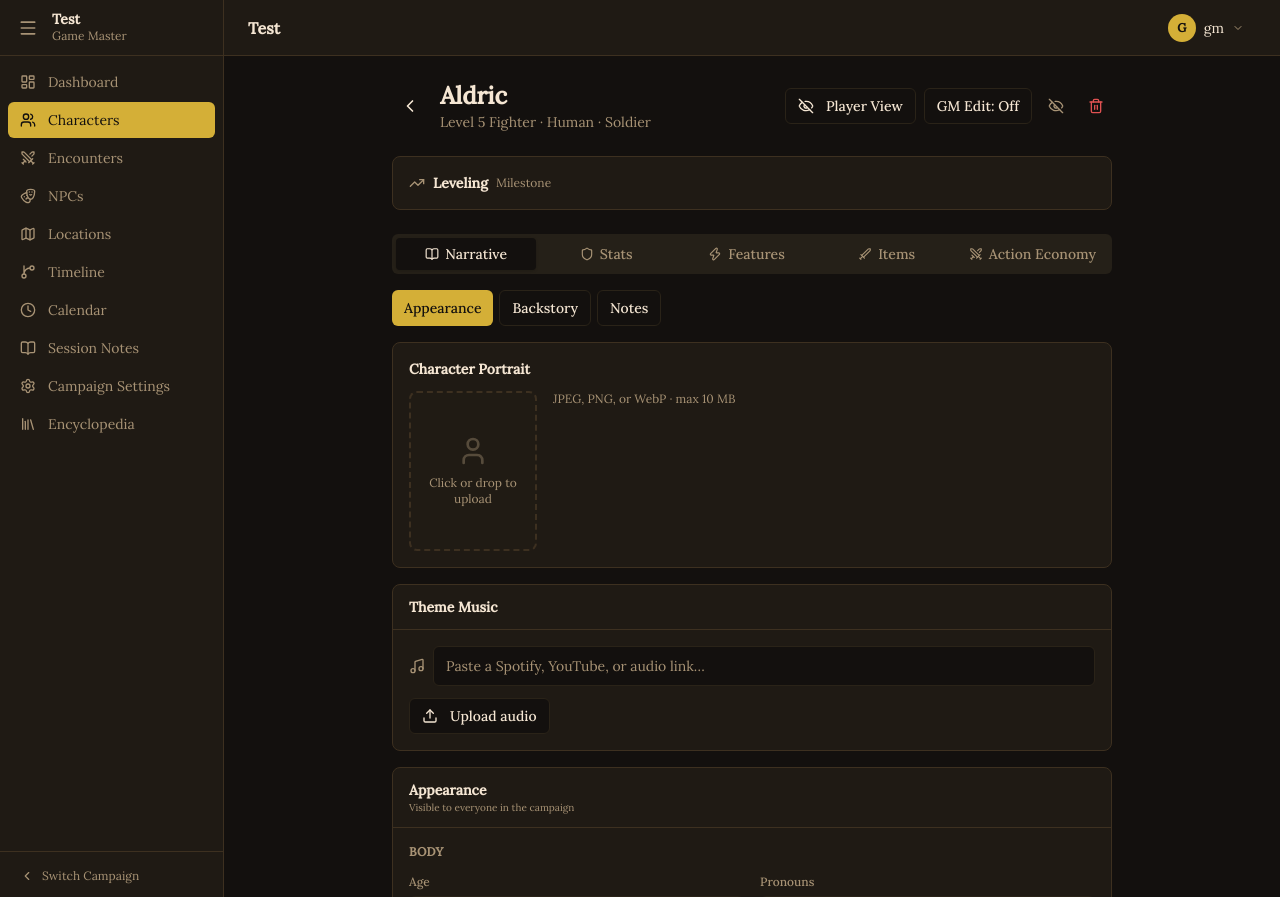
it: CharacterDetail › GM view › GM sees GM Notes section
Click the button with test id "narrative-subtab-notes": [629, 308] box [597,290,661,326]
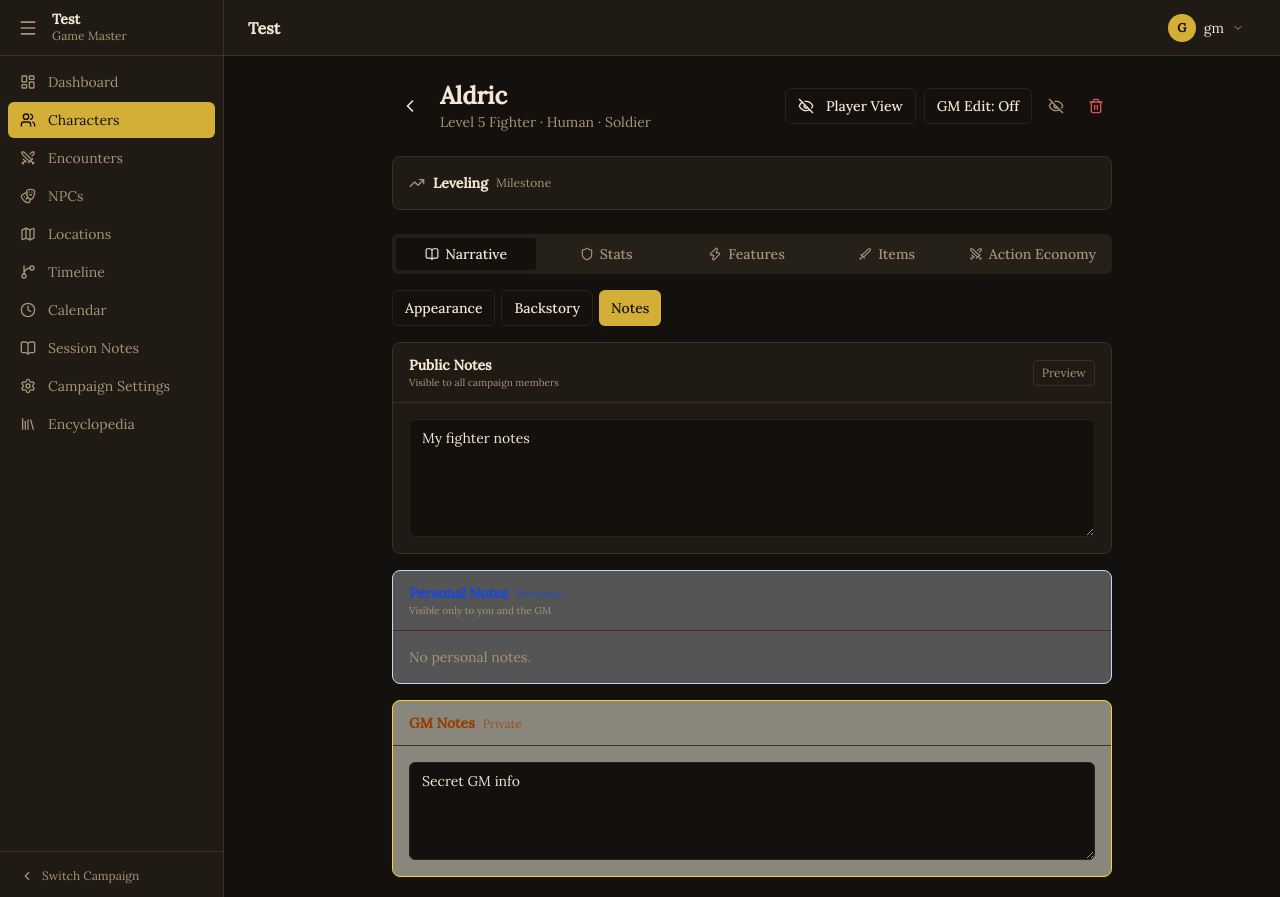
Check: the heading "GM Notes" is shown, box [409,714,475,732]
